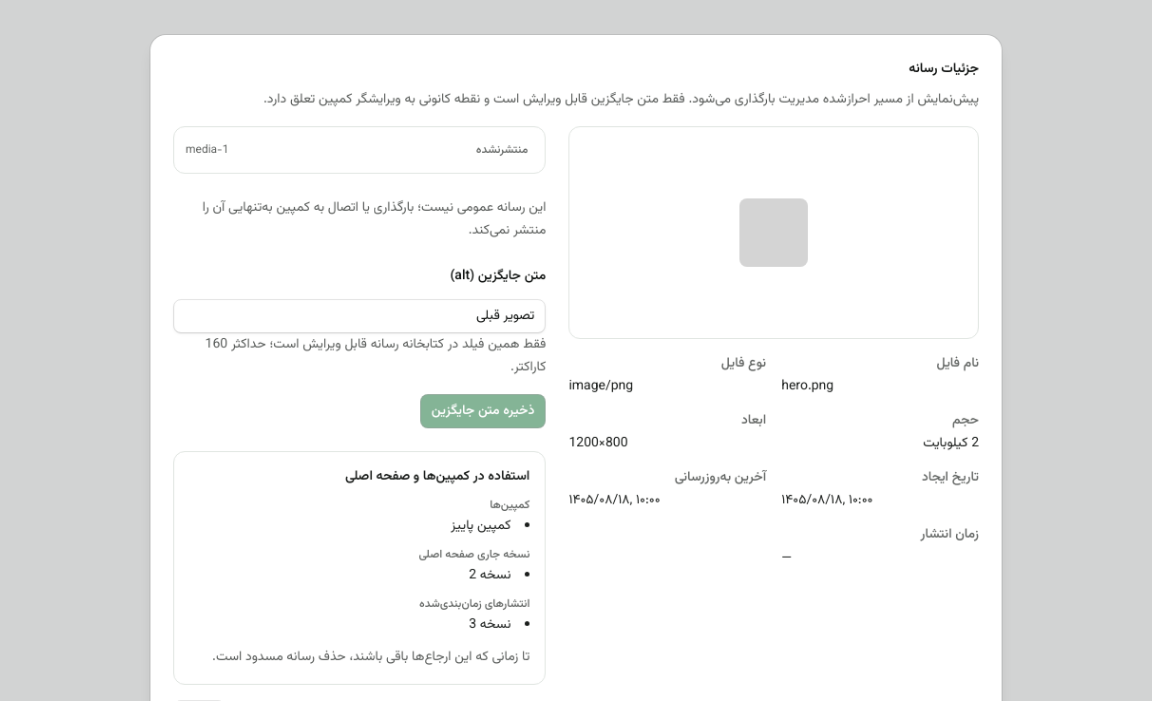
it: MerchMediaDetailDialog (SS-274) › saves alt text through the update endpoint and reports the change
Replace the text in the field labelled "متن جایگزین (alt)" with "تصویر جدید" at x=360, y=316, box [173, 299, 546, 333]
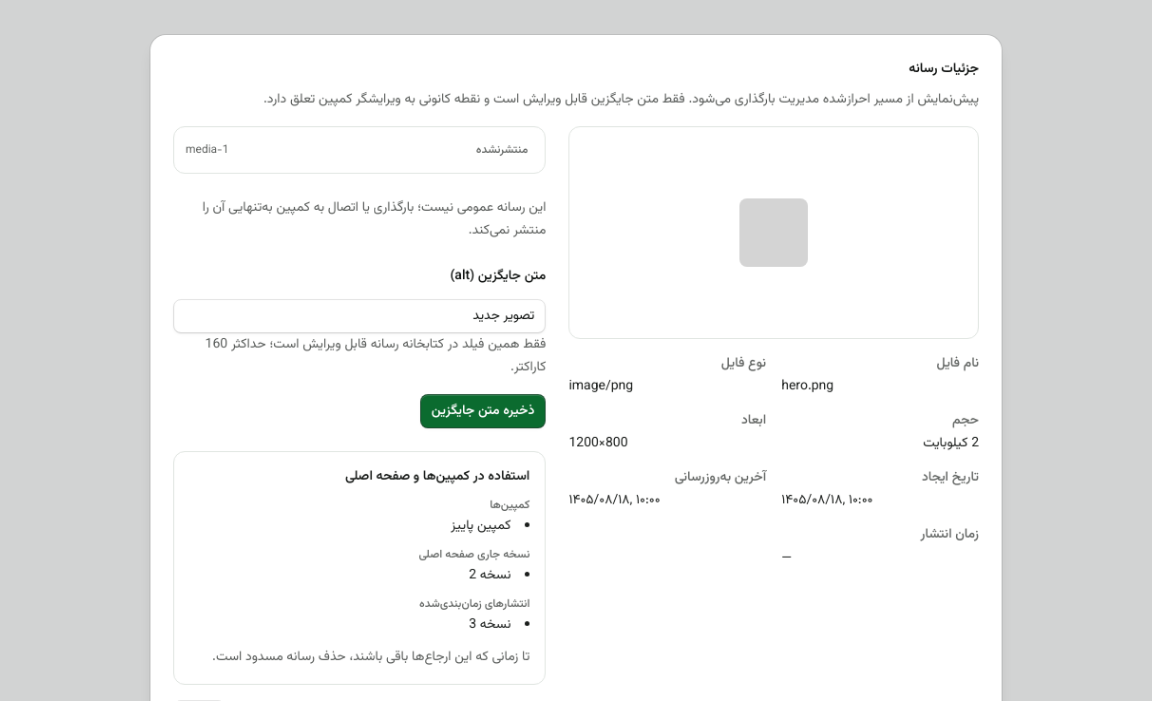
Click the button "ذخیره متن جایگزین" at x=483, y=411, box [420, 394, 546, 428]
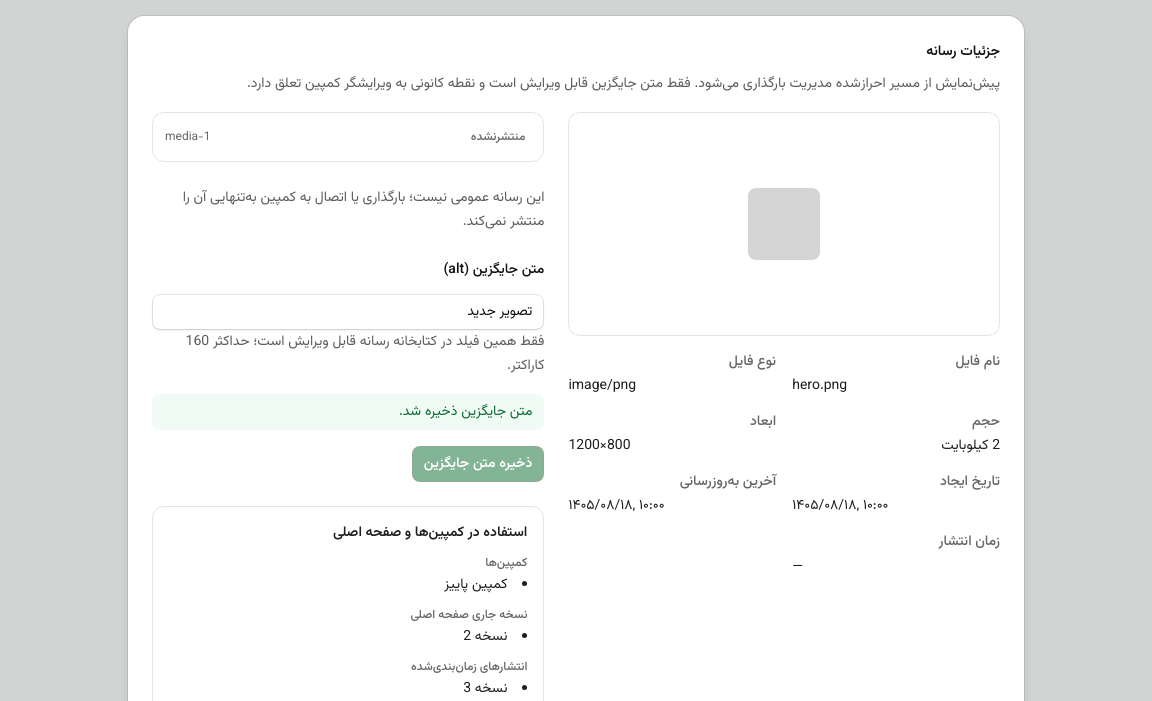
Expected: the text "متن جایگزین ذخیره شد." is shown, [152, 394, 544, 430]
